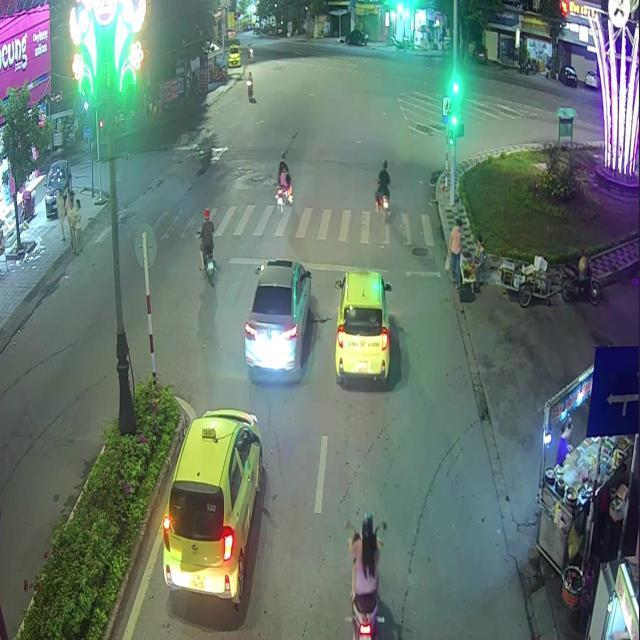car: (161, 408, 263, 608), (244, 258, 310, 373), (334, 269, 390, 386)
green_light: (450, 92, 457, 125)
motobike: (349, 513, 385, 638), (0, 0, 48, 17), (274, 185, 290, 212), (375, 193, 389, 223), (200, 249, 215, 276)
stop_line: (226, 256, 440, 277)
